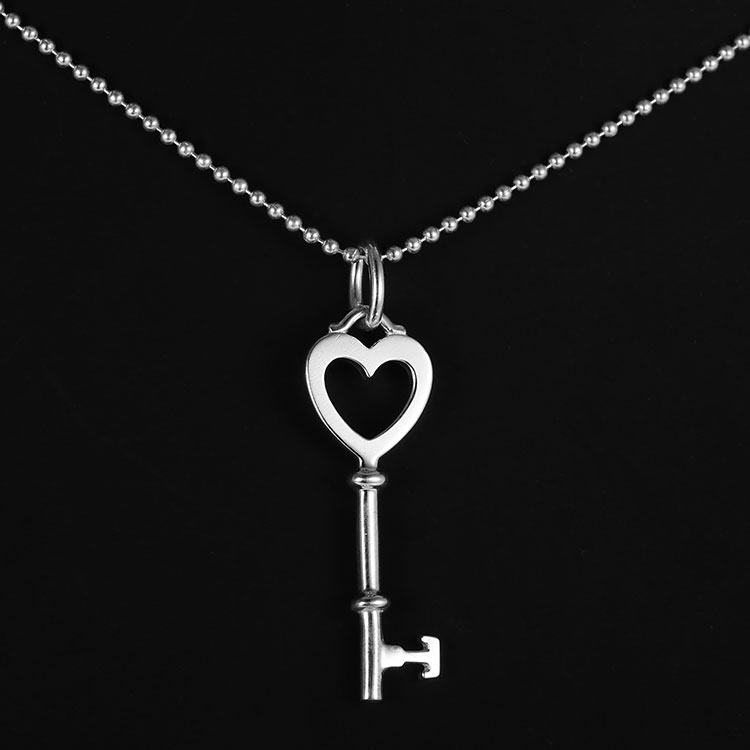key: (298, 320, 452, 709)
